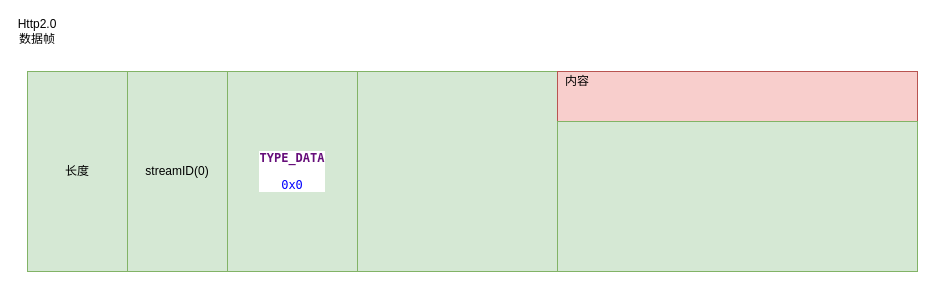
The diagram is 935 pixels wide and 289 high, and some of its shapes have lost their labels. Each missing label, with the centre of its shape:
"FLAG(FLAG_END_STREAM /FLAG_NONE )" goes at point (457, 171).
"数据信息" goes at point (737, 196).
